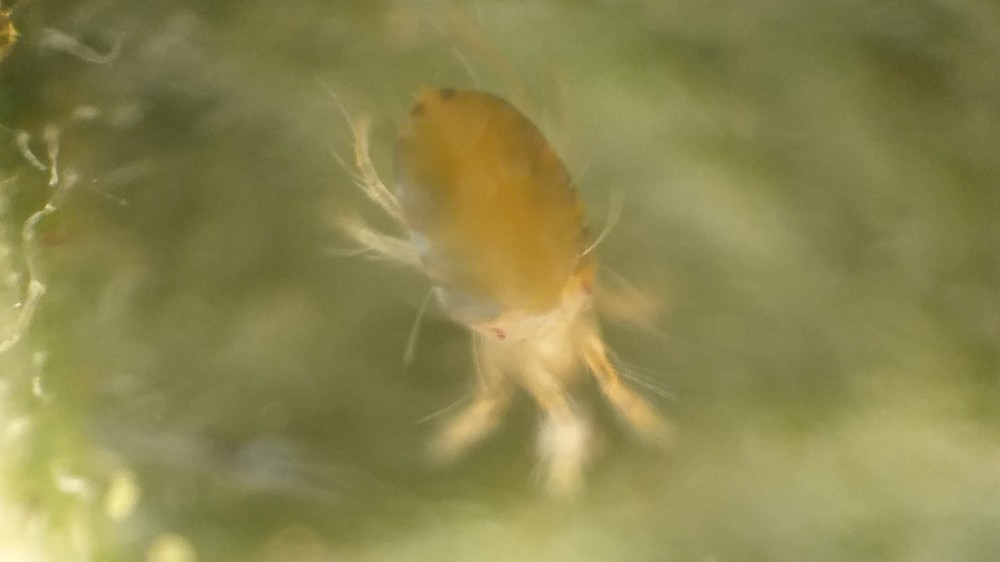Aracnido Rojo: (293, 15, 747, 529)
